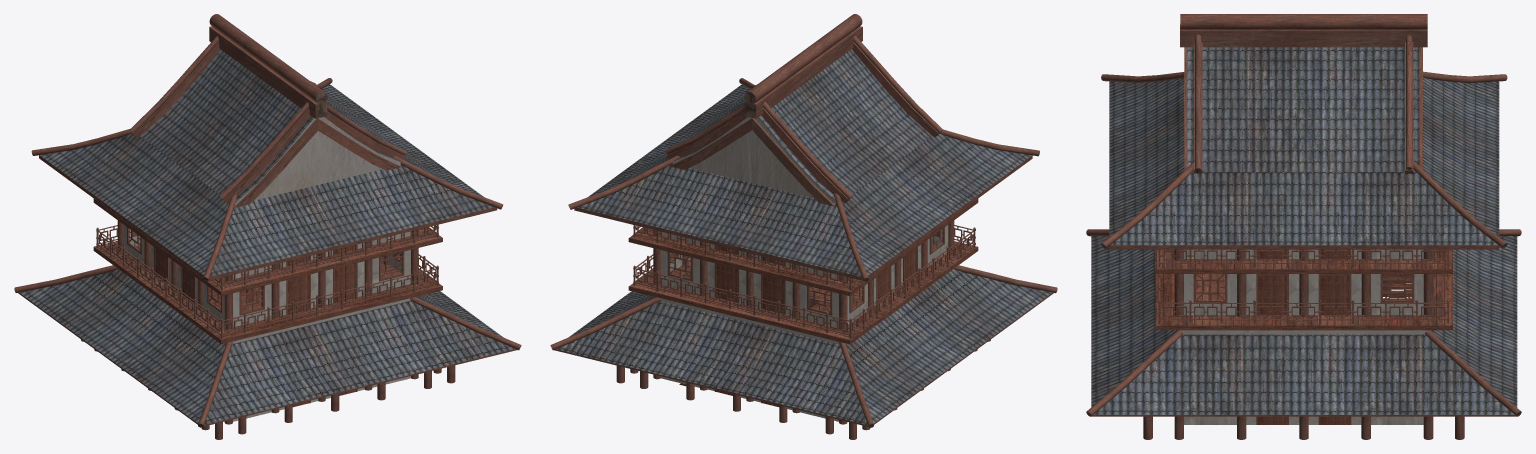
The model's file is building_11 .fbx.
3 views of the same model, side by side, from view 1: azimuth 30°, elevation 25°; view 2: azimuth 150°, elevation 25°; view 3: azimuth 270°, elevation 25° (orthographic). The views are drawn at different scales.
Parts seen in each view (by area): view 1: polySurface18664; view 2: polySurface18664; view 3: polySurface18664.
Part boxes in pixels (left/top/right/bottom): polySurface18664: left=14, top=14, right=521, bottom=439; polySurface18664: left=550, top=14, right=1057, bottom=439; polySurface18664: left=1086, top=14, right=1521, bottom=439.
Size of the model in its own units: 27.87 by 25.9 by 27.94.
